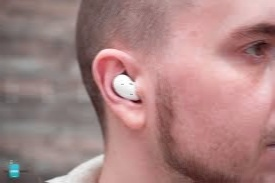earphone: (92, 49, 147, 131)
